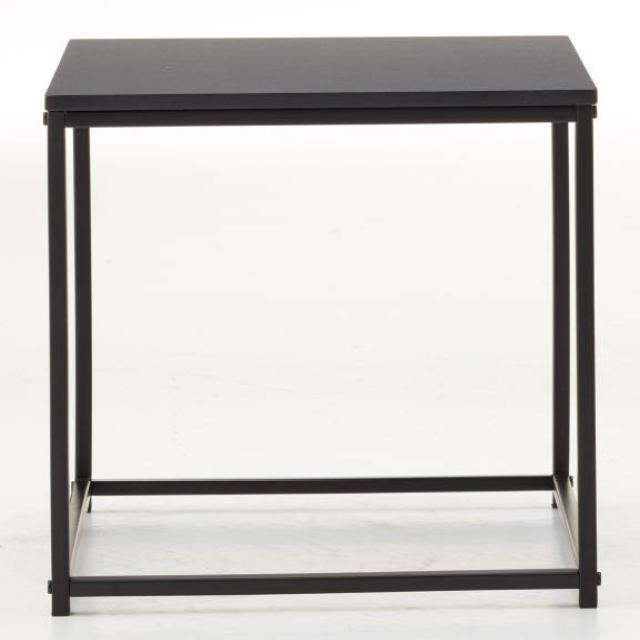table: (43, 34, 600, 615)
